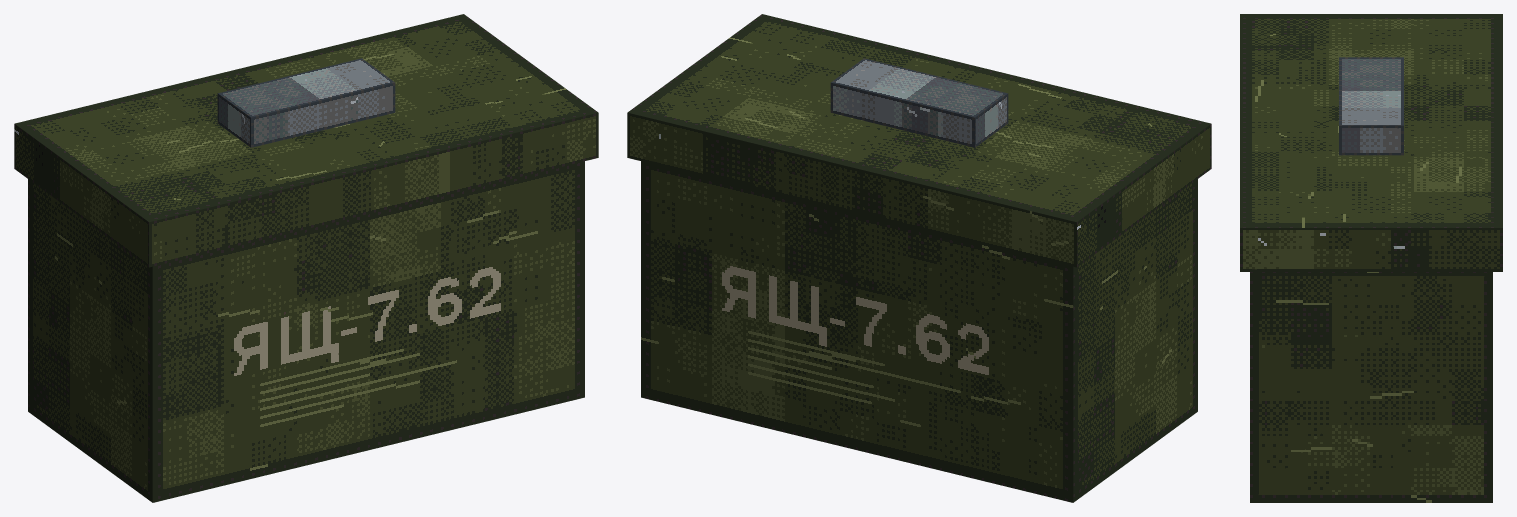
File: SM_AmmoTin_01.glb
3 views of the same model, side by side, from view 1: azimuth 30°, elevation 25°; view 2: azimuth 150°, elevation 25°; view 3: azimuth 270°, elevation 25° (orthographic). The views are drawn at different scales.
Visible parts, largest first — view 1: SM_AmmoTin_01; view 2: SM_AmmoTin_01; view 3: SM_AmmoTin_01.
Part boxes in pixels (<box>): SM_AmmoTin_01: <box>14,14,598,502</box>; SM_AmmoTin_01: <box>627,14,1211,502</box>; SM_AmmoTin_01: <box>1240,14,1502,502</box>.
Size of the model in its own units: 0.312 by 0.21 by 0.162.
1 material, 1 textured.
